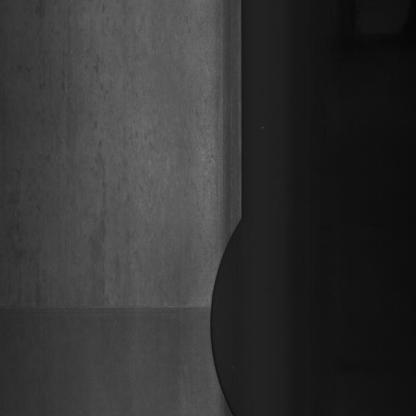crescent_gap: (203, 206, 266, 416)
welding_line: (0, 293, 214, 324)
